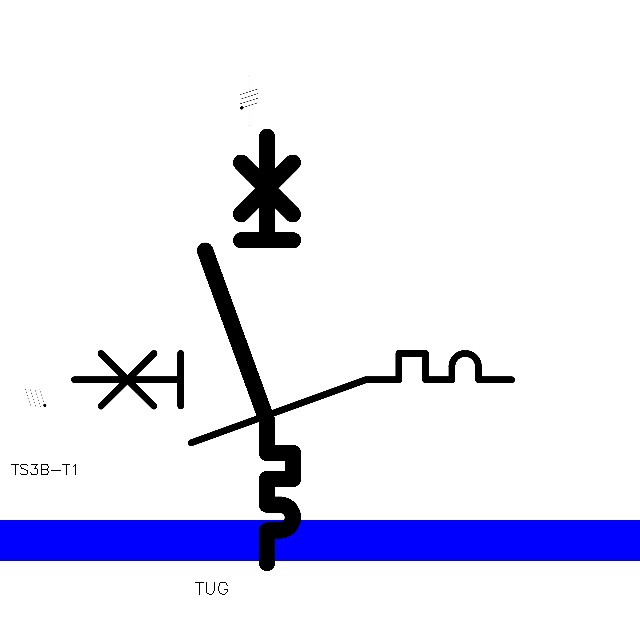interruptor_termomagnetico: (63, 342, 523, 454), (194, 125, 304, 573)
